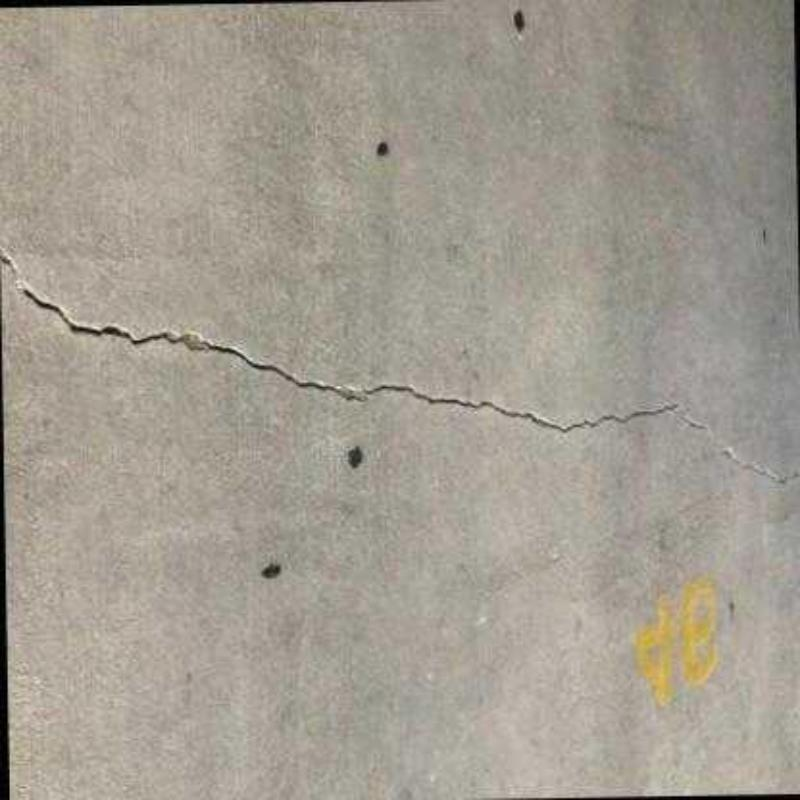pothole: (0, 242, 798, 489)
